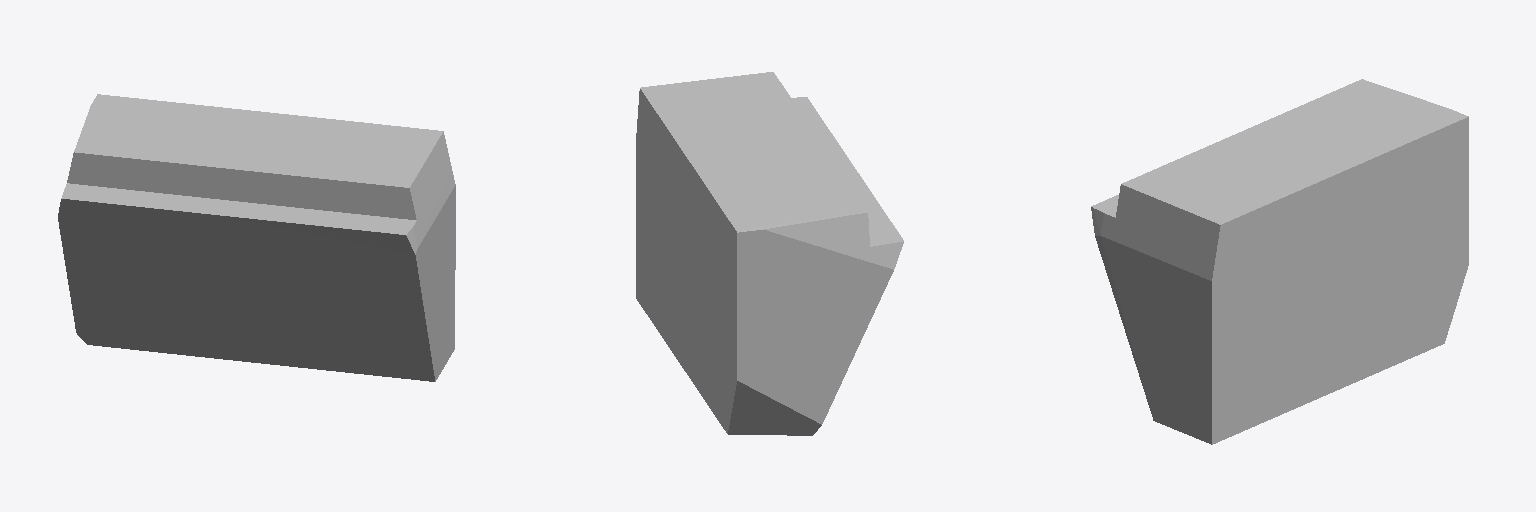
The model's file is li-fang-ti-.001_cell.058.obj.
3 views of the same model, side by side, from view 1: azimuth 30°, elevation 25°; view 2: azimuth 150°, elevation 25°; view 3: azimuth 270°, elevation 25° (orthographic).
Visible parts, largest first — view 1: 立方体.001_cell.058; view 2: 立方体.001_cell.058; view 3: 立方体.001_cell.058.
Boxes of the visible parts, x1,y1,x2,y2 form: 立方体.001_cell.058: [58, 94, 455, 381]; 立方体.001_cell.058: [636, 72, 903, 435]; 立方体.001_cell.058: [1091, 79, 1468, 444].
Size of the model in its own units: 0.7609 by 0.475 by 0.7526.